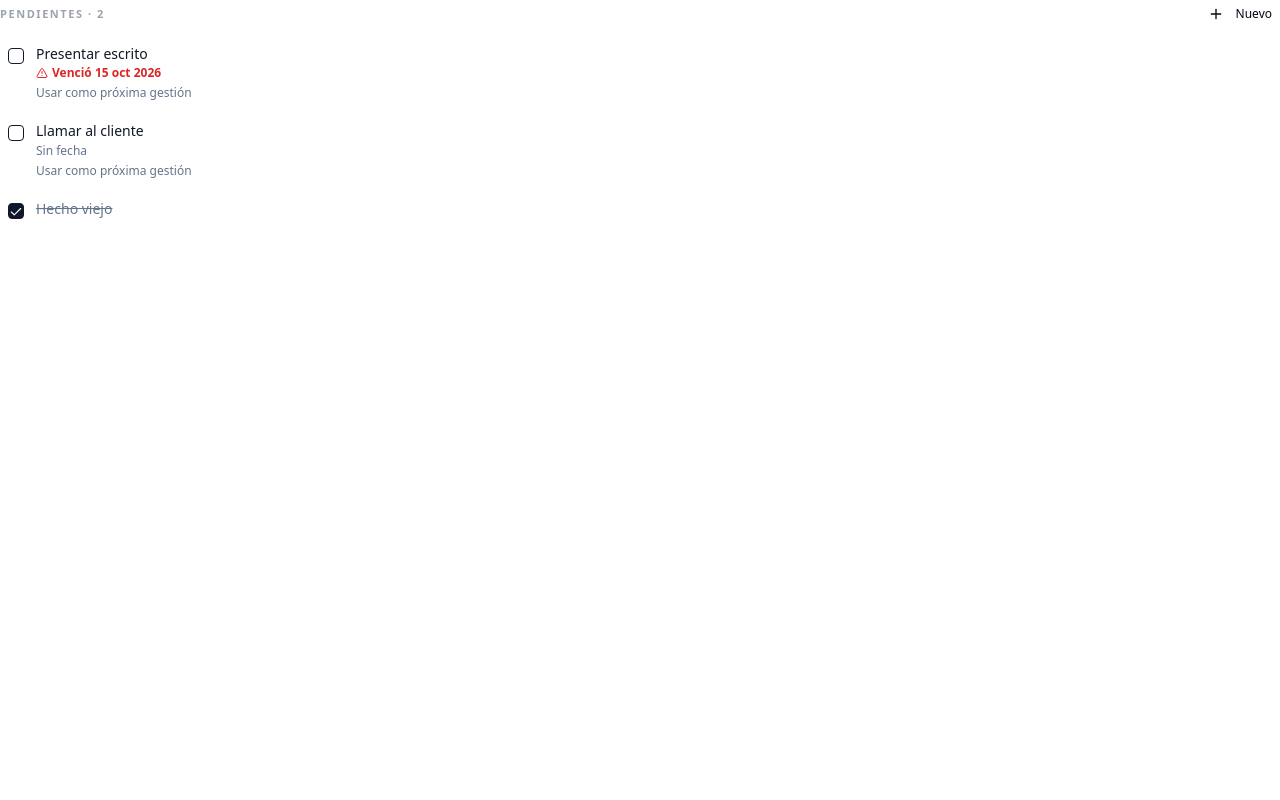
Test: CTA por tarea › advierte reemplazo cuando hay próxima gestión activa
Click the button "Usar como próxima gestión" below "Venció 15 oct 2026" at x=114, y=93, box [36,85,192,101]
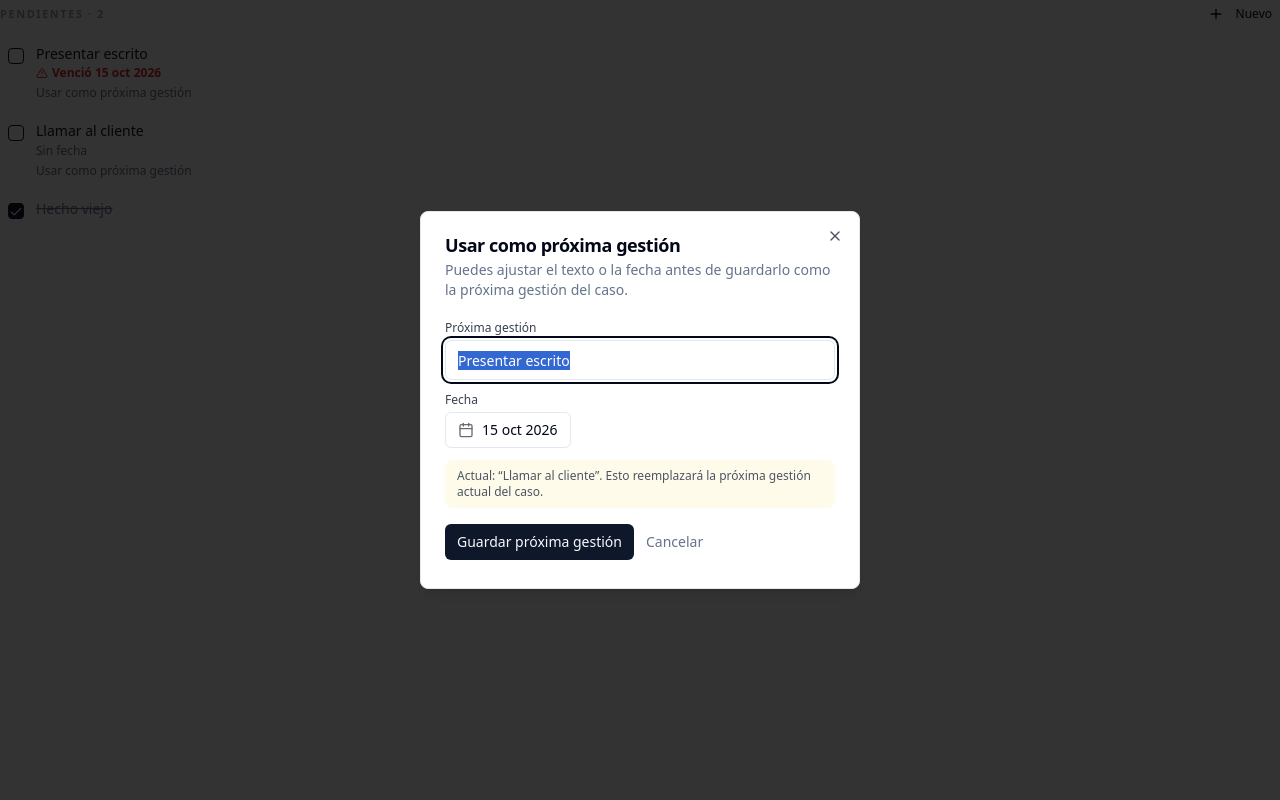
Expected: the text "reemplazará la próxima gestión actual" is shown, [457,467,811,500]
